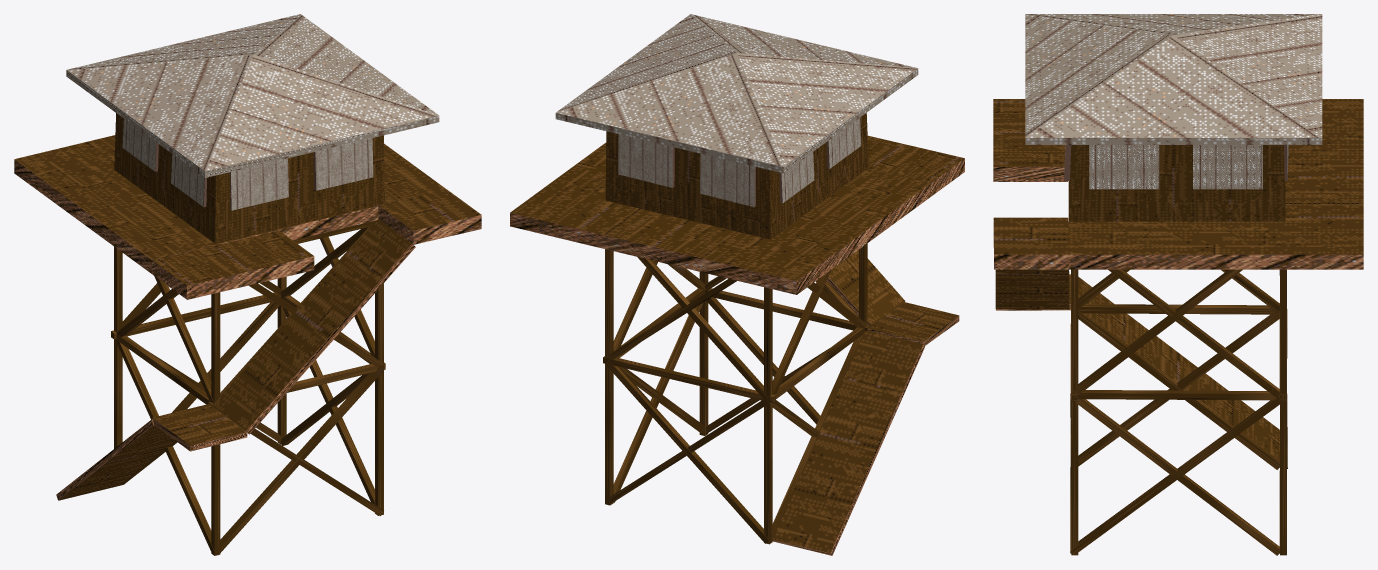
Rendered from Firewatch Tower.fbx.
3 views of the same model, side by side, from view 1: azimuth 30°, elevation 25°; view 2: azimuth 150°, elevation 25°; view 3: azimuth 270°, elevation 25° (orthographic). The views are drawn at different scales.
Visible parts, largest first — view 1: Cube; view 2: Cube; view 3: Cube.
Part boxes in pixels (box(x1,y1,x2,y2)): Cube: box(14, 14, 481, 555); Cube: box(510, 14, 964, 555); Cube: box(993, 14, 1363, 555).
Size of the model in its own units: 1042 by 1505 by 1058.
